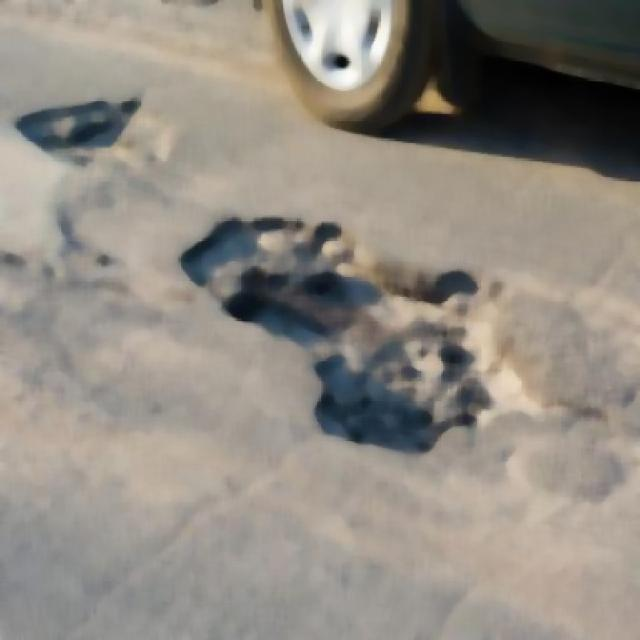Pothole: (199, 207, 507, 465), (34, 71, 137, 191)
